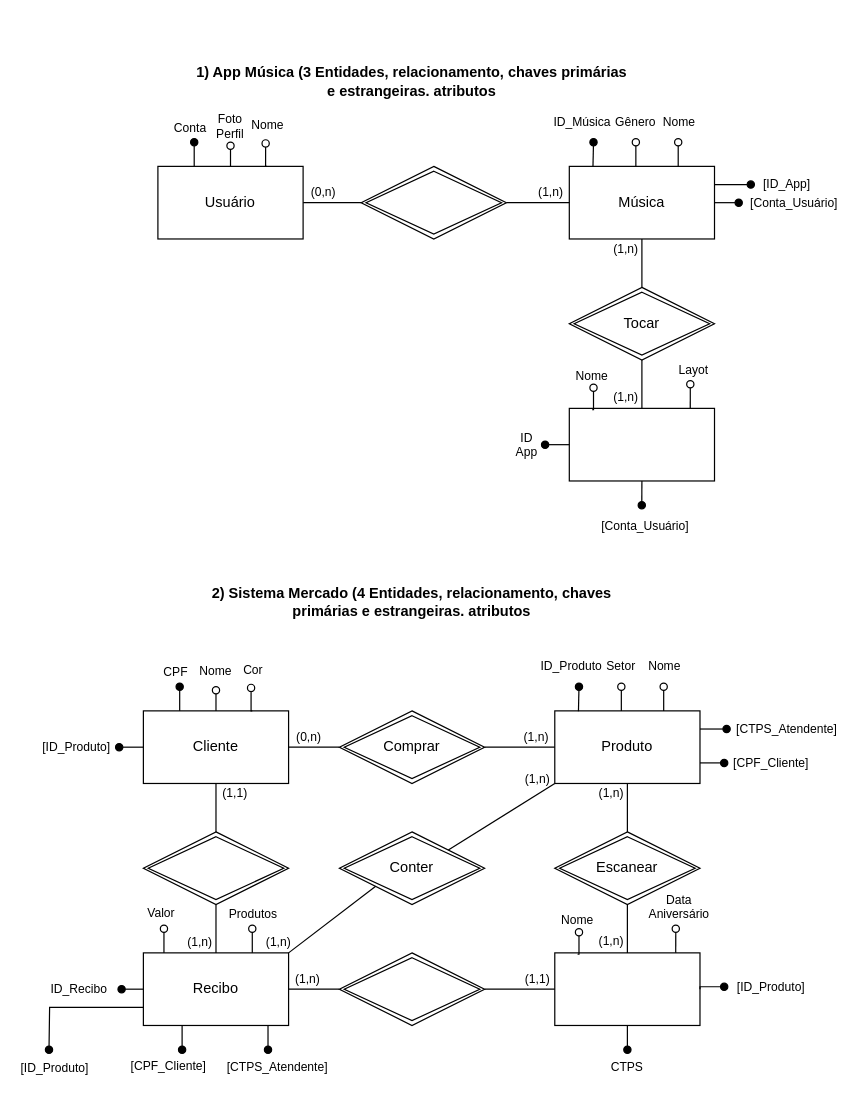
The diagram is 858 pixels wide and 1095 high, and some of its shapes have lost their labels. The shapes that lost their labels are listed below. From the top down, each one's centre as x and y in pixels, then its label:
At (x=433, y=202): "Escutar".
At (x=641, y=444): "Plataforma".
At (x=215, y=867): "Pegar".
At (x=411, y=988): "Gerar".
At (x=627, y=988): "Atendente".
